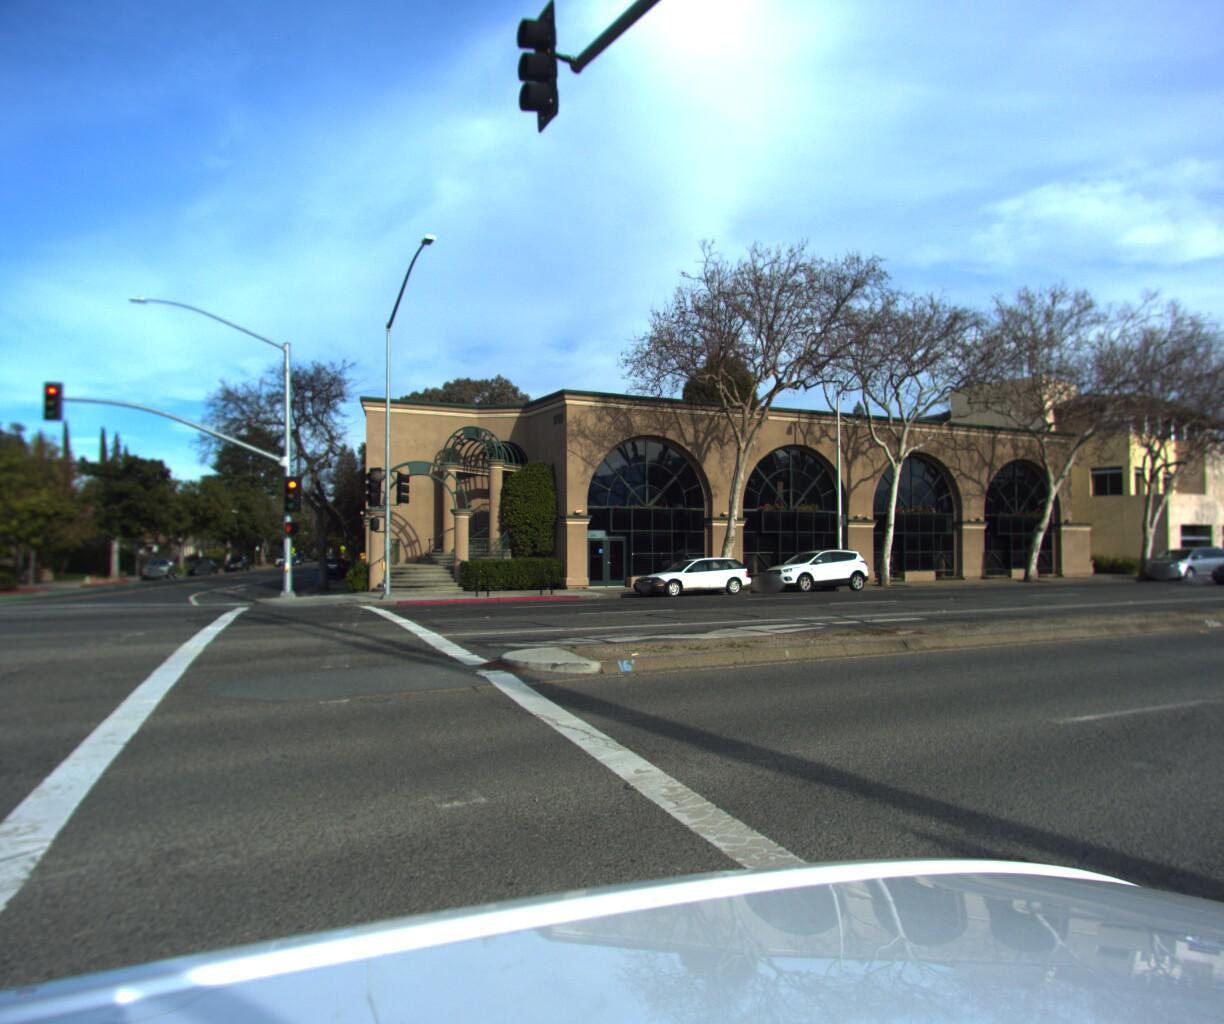car: (628, 552, 757, 603), (752, 545, 877, 595), (1134, 543, 1224, 581), (1189, 543, 1224, 584), (140, 558, 186, 581), (318, 555, 349, 578), (189, 555, 221, 574)
